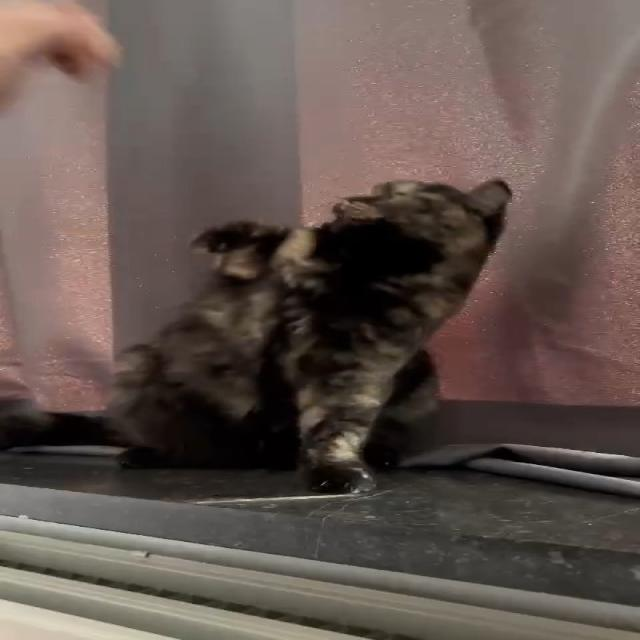authorized: (101, 176, 514, 494)
